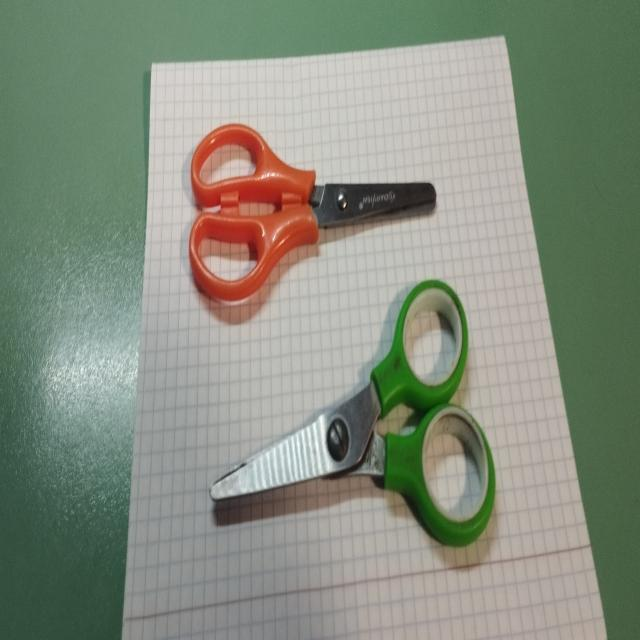tesoura: (208, 280, 498, 550), (187, 116, 440, 306)
